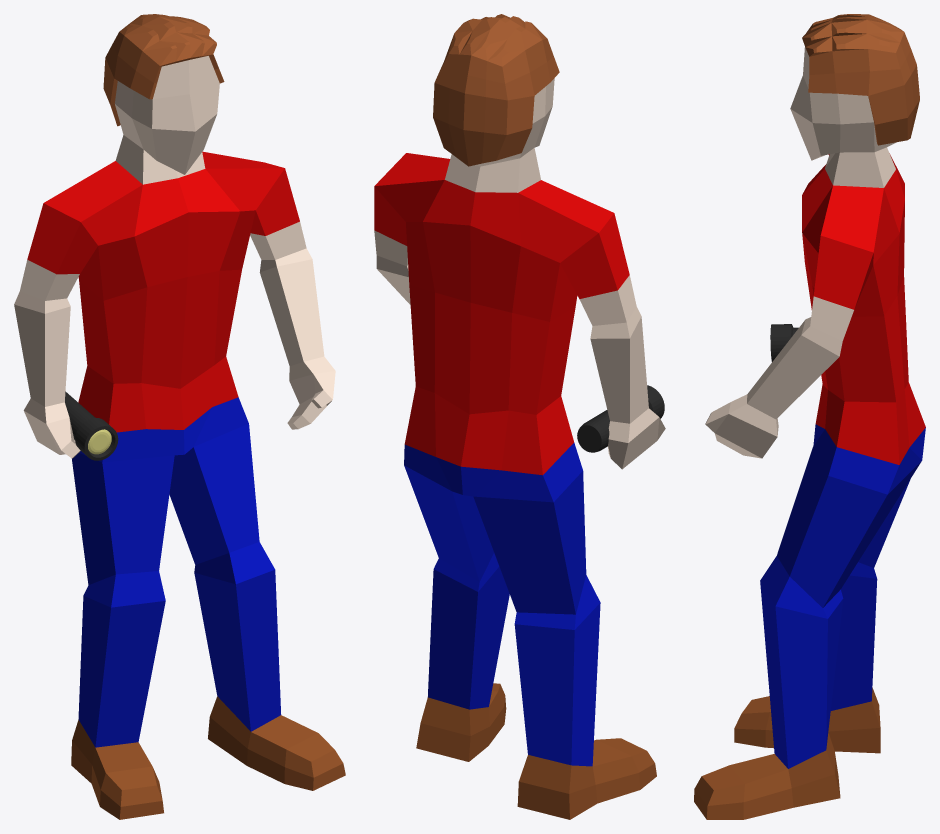
Rendered from Human_grabbing_51.fbx.
The picture shows the model from 3 angles, left to right: view 1: azimuth 30°, elevation 25°; view 2: azimuth 150°, elevation 25°; view 3: azimuth 270°, elevation 25°; orthographic projection. The views are drawn at different scales.
Parts seen in each view (by area): view 1: Person.003, Cylinder.002; view 2: Person.003, Cylinder.002; view 3: Person.003, Cylinder.002.
Boxes of the visible parts, box(x1,y1,x2,y2) form: Person.003: box(14, 14, 345, 819); Cylinder.002: box(65, 391, 118, 460); Person.003: box(374, 14, 665, 819); Cylinder.002: box(577, 385, 664, 452); Person.003: box(694, 14, 925, 819); Cylinder.002: box(770, 324, 798, 361).
Bounding box in the file's own units: 0.5855 × 1.58 × 0.4385.
